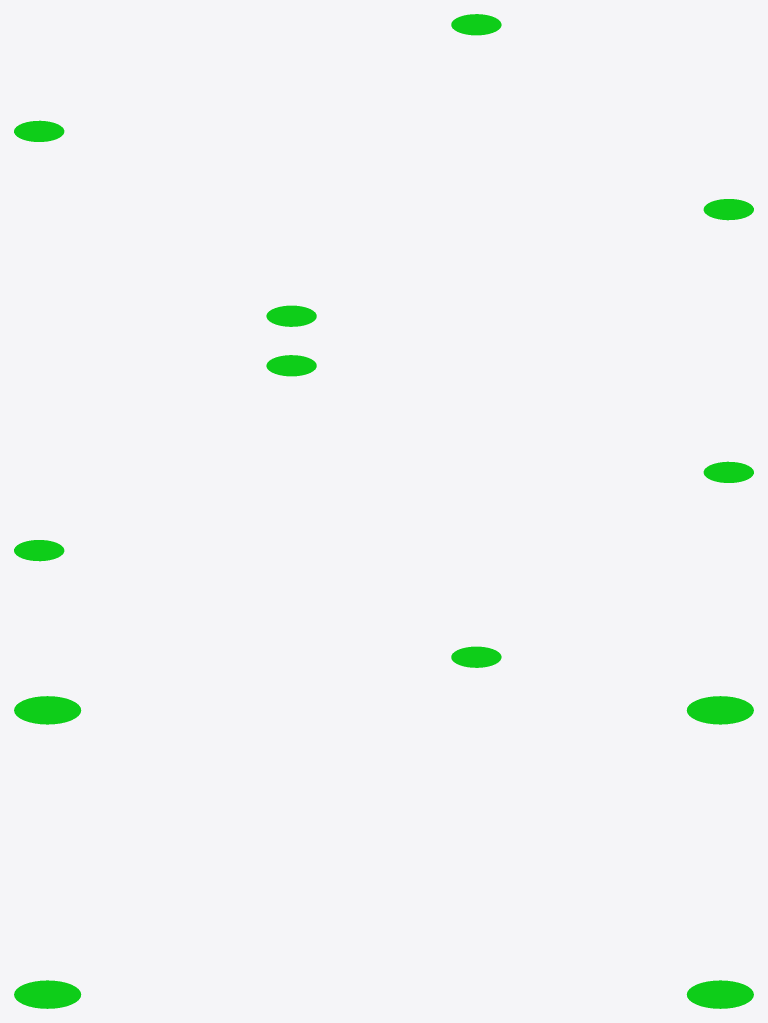
File: checkerbox.dae
The picture shows the model from 3 angles, top to bottom: view 1: azimuth 30°, elevation 25°; view 2: azimuth 150°, elevation 25°; view 3: azimuth 270°, elevation 25°; orthographic projection. The views are drawn at different scales.
Parts seen in each view (by area): view 1: Circle.004, Circle.002, Circle.003, Circle; view 2: Circle.003, Circle, Circle.004, Circle.002; view 3: Circle.004, Circle.003, Circle.002, Circle.
Part boxes in pixels (box(x1,y1,x2,y2)): Circle.004: box(266, 305, 316, 326); Circle.002: box(451, 14, 501, 35); Circle.003: box(14, 120, 64, 141); Circle: box(703, 199, 753, 220); Circle.003: box(451, 646, 501, 667); Circle: box(266, 355, 316, 376); Circle.004: box(703, 461, 753, 482); Circle.002: box(14, 540, 64, 561); Circle.004: box(14, 696, 81, 724); Circle.003: box(686, 696, 753, 724); Circle.002: box(686, 980, 753, 1008); Circle: box(14, 980, 81, 1008).
Bounding box in the file's own units: 1.1 × 1.1 × 0.
